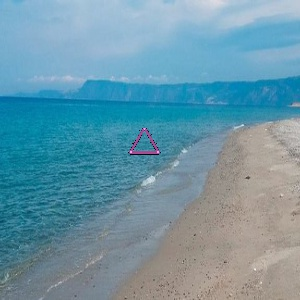triangle: (126, 124, 164, 157)
